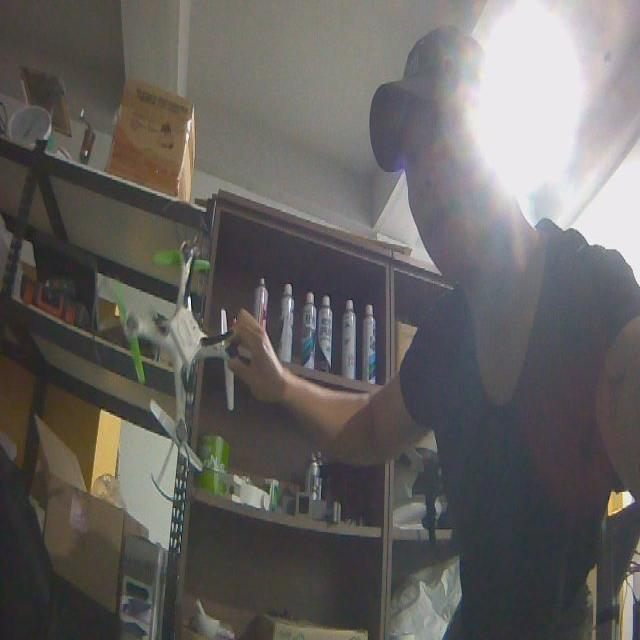drone: (89, 197, 261, 509)
